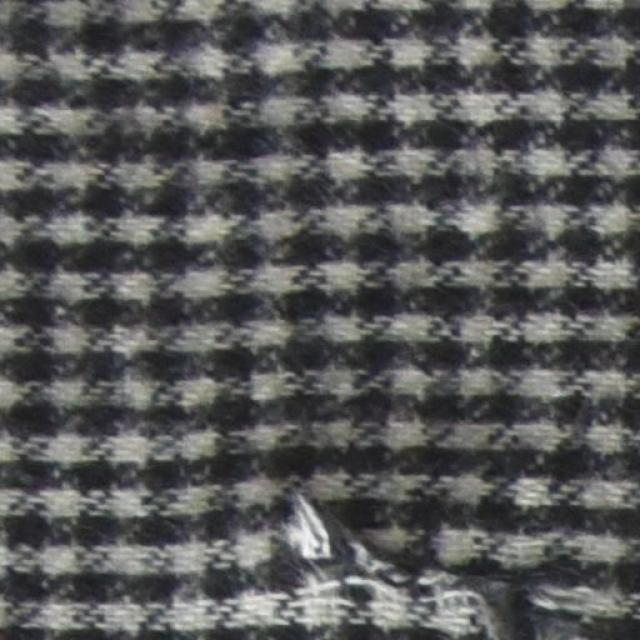Snag: (289, 495, 623, 640)
